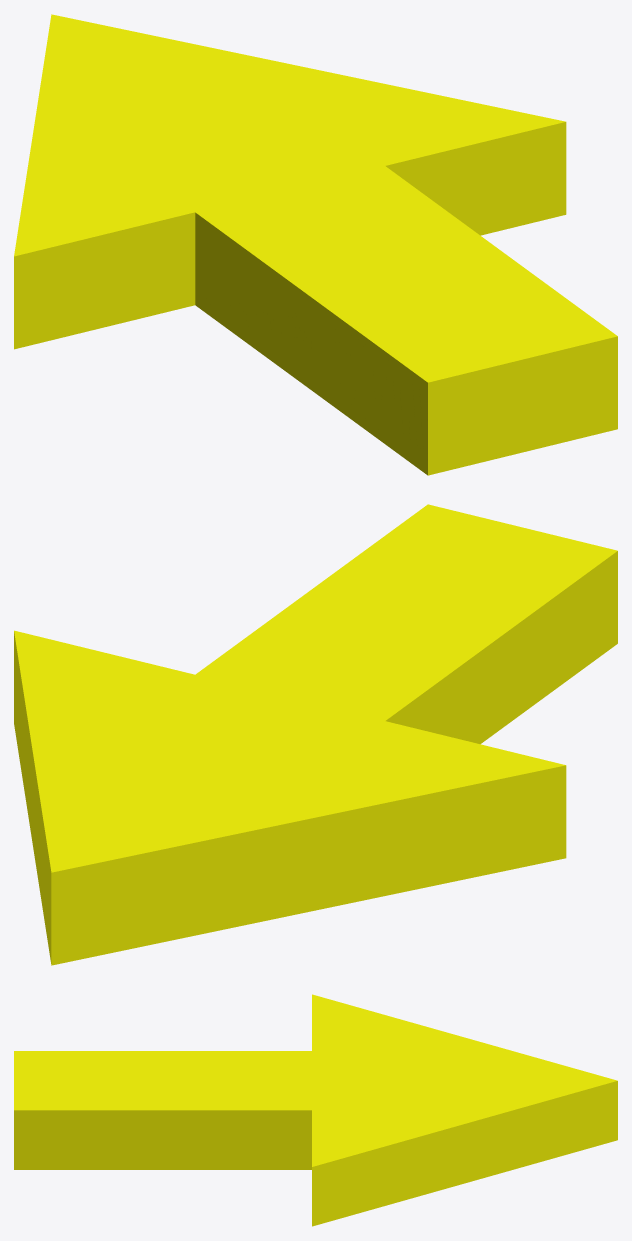
The model's file is Waypoint.fbx.
3 views of the same model, one above another, from view 1: azimuth 30°, elevation 25°; view 2: azimuth 150°, elevation 25°; view 3: azimuth 270°, elevation 25° (orthographic). The views are drawn at different scales.
Visible parts, largest first — view 1: Arrow; view 2: Arrow; view 3: Arrow.
Boxes of the visible parts, x1,y1,x2,y2 form: Arrow: (14,14,617,475); Arrow: (14,504,617,965); Arrow: (14,994,617,1226).
Size of the model in its own units: 69.63 by 11.19 by 103.
